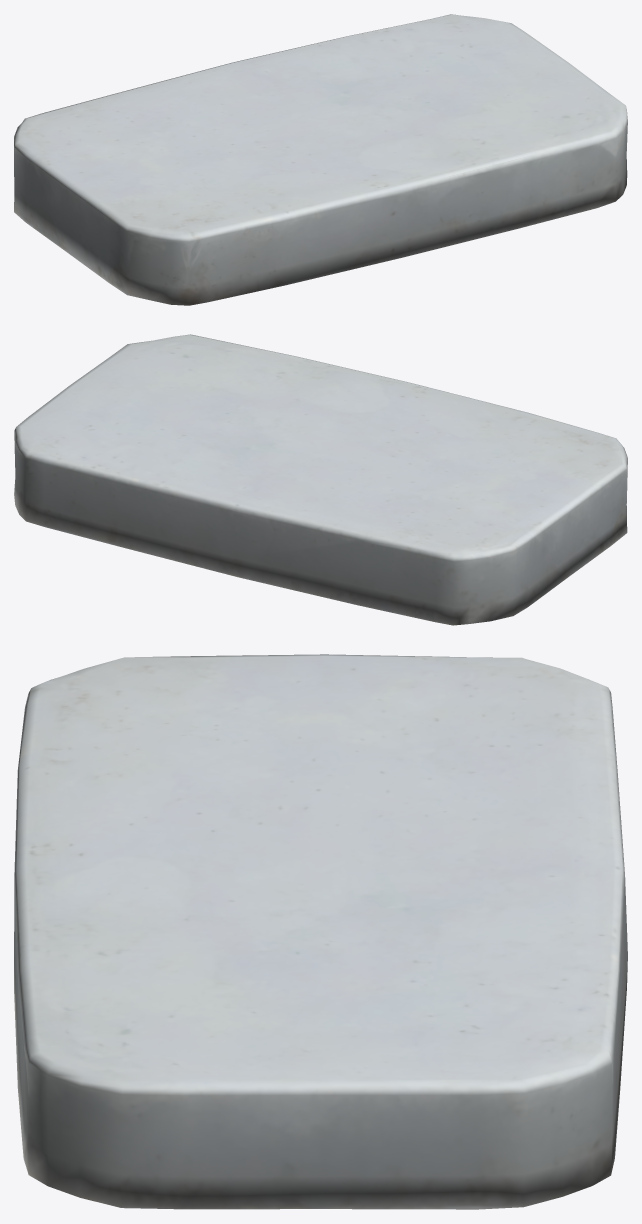
The model's file is Meshy_AI_Frosted_Crystal_Slab_20261128_texture.fbx.
3 views of the same model, one above another, from view 1: azimuth 30°, elevation 25°; view 2: azimuth 150°, elevation 25°; view 3: azimuth 270°, elevation 25° (orthographic). The views are drawn at different scales.
Parts seen in each view (by area): view 1: geometry_0; view 2: geometry_0; view 3: geometry_0.
Boxes of the visible parts, x1,y1,x2,y2 form: geometry_0: (14,14,627,305); geometry_0: (14,334,627,625); geometry_0: (14,654,627,1209).
Bounding box in the file's own units: 100 × 13.57 × 59.78.
Materials: 1 (1 with a texture image).
